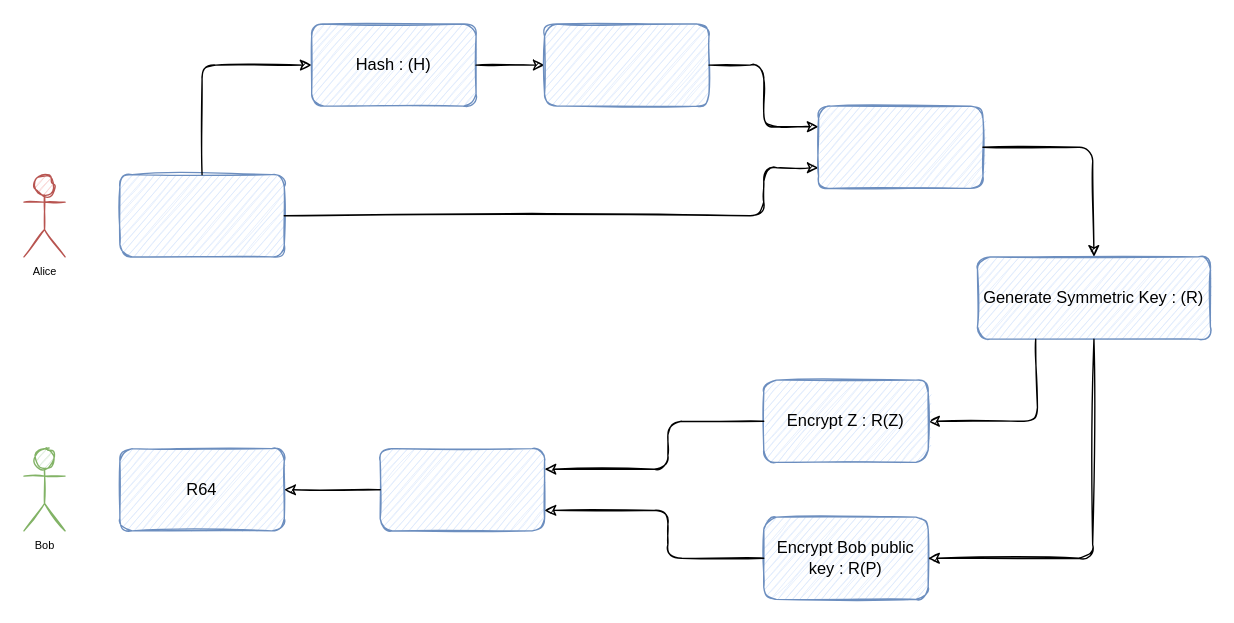
The diagram is 1234 pixels wide and 623 high, and some of its shapes have lost their labels. Here are the shapes that lost their labels. From the top down, the box of each, then its label:
(543, 23, 709, 106): Sign : (S(H)) Alice private key
(817, 105, 983, 188): S(H) | M : (Z)
(119, 173, 284, 257): Message : (M)
(379, 447, 545, 531): R(Z) | R(P) : (R64)
